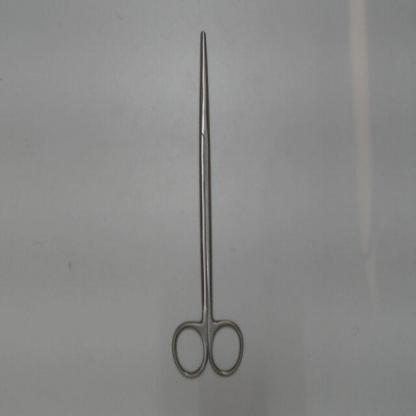9 Metzenbaum Scissors: (166, 23, 249, 384)
